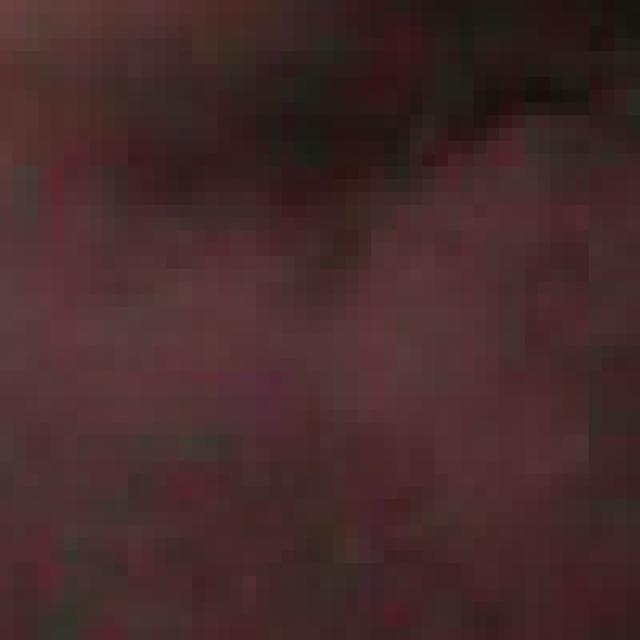no_fire: (22, 22, 634, 634)
